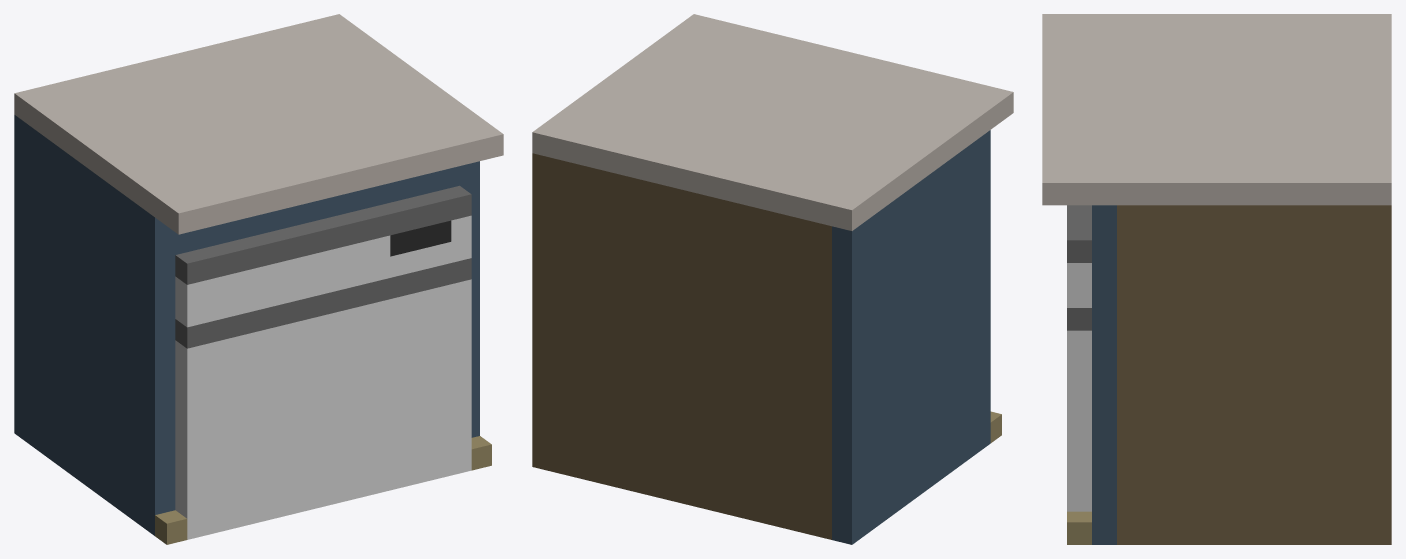
File: CounterDishwasher.obj
3 views of the same model, side by side, from view 1: azimuth 30°, elevation 25°; view 2: azimuth 150°, elevation 25°; view 3: azimuth 270°, elevation 25° (orthographic). The views are drawn at different scales.
Visible parts, largest first — view 1: CounterDishwasher; view 2: CounterDishwasher; view 3: CounterDishwasher.
Part boxes in pixels (x1,y1,x2,y2): CounterDishwasher: (14, 14, 503, 544); CounterDishwasher: (532, 14, 1013, 544); CounterDishwasher: (1042, 14, 1391, 544).
Bounding box in the file's own units: 16 × 16 × 14.
1 material, 1 textured.
